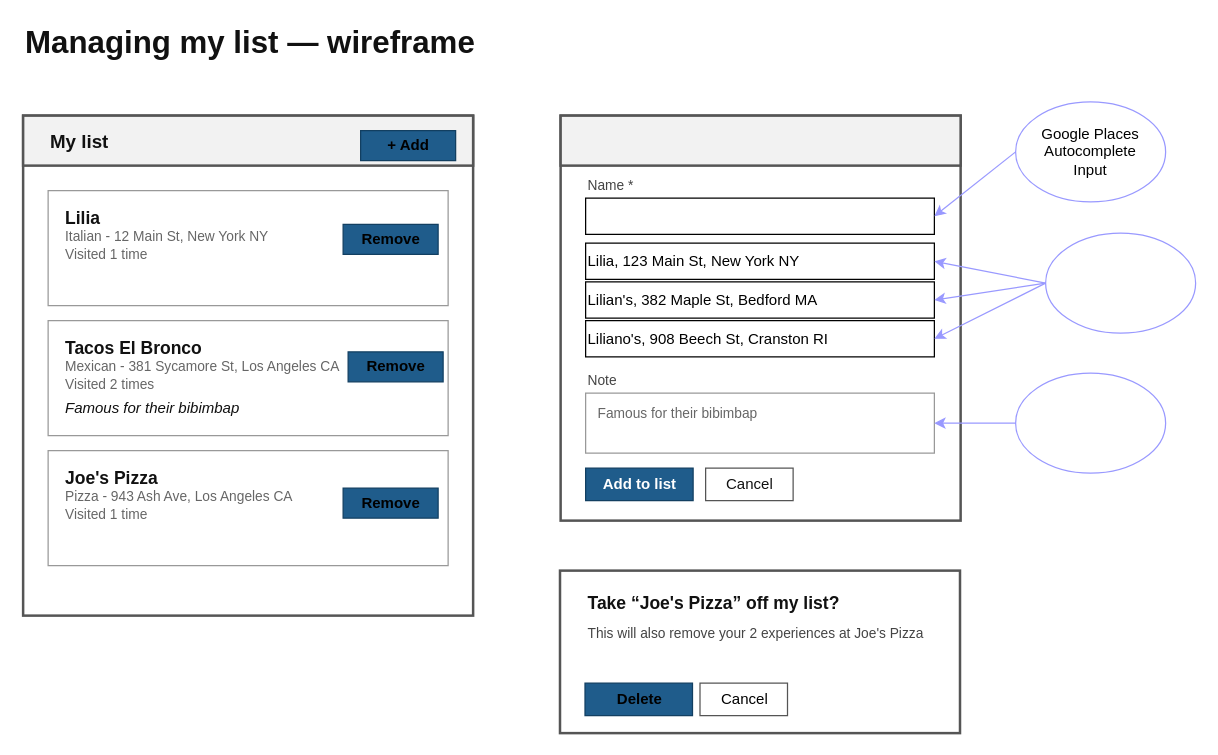
Image size: 1218x755. Some labels were removed from this diagram. Each missing label, with the centre of its shape:
"Add a restaurant" belongs at [760,140].
"Google Places Autocomplete Results" belongs at [1120,282].
"Lili" belongs at [759,215].
"Note is optional, and editable on the restaurant detail later" belongs at [1090,422].
